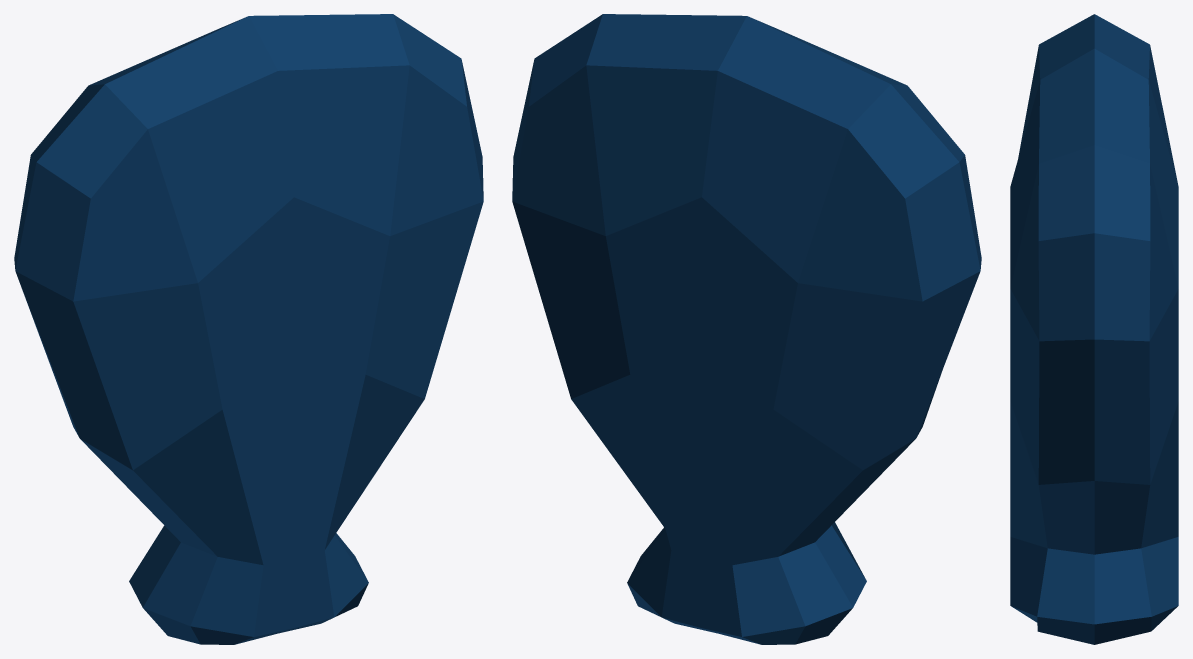
Rendered from Xtal.obj.
3 renders of one model, left to right at view 1: azimuth 30°, elevation 25°; view 2: azimuth 150°, elevation 25°; view 3: azimuth 270°, elevation 25°, orthographic. The views are drawn at different scales.
Visible parts, largest first — view 1: Cube; view 2: Cube; view 3: Cube.
Boxes of the visible parts, <box> form: Cube: <box>14,14,483,644</box>; Cube: <box>512,14,981,644</box>; Cube: <box>1010,14,1178,644</box>.
Bounding box in the file's own units: 0.2672 × 0.3347 × 0.0894.
